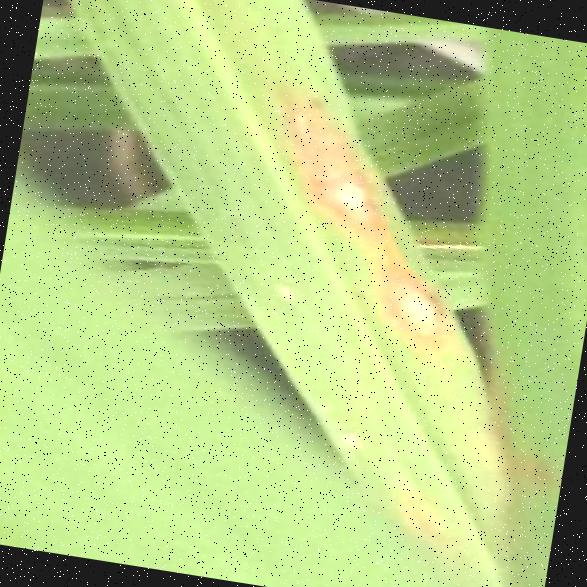Leaf_smut: (246, 71, 410, 240), (356, 254, 470, 357)
